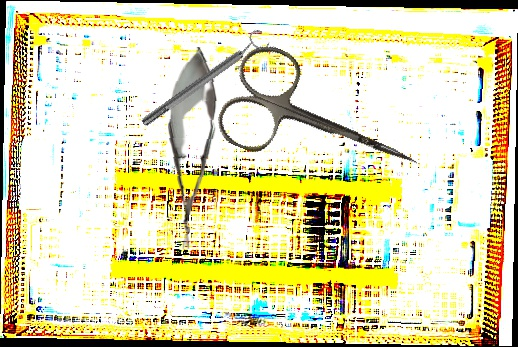Fixation Ring: (135, 27, 273, 132)
Iris Scissors: (210, 37, 438, 214)
Micro Scissor: (161, 45, 222, 251)
